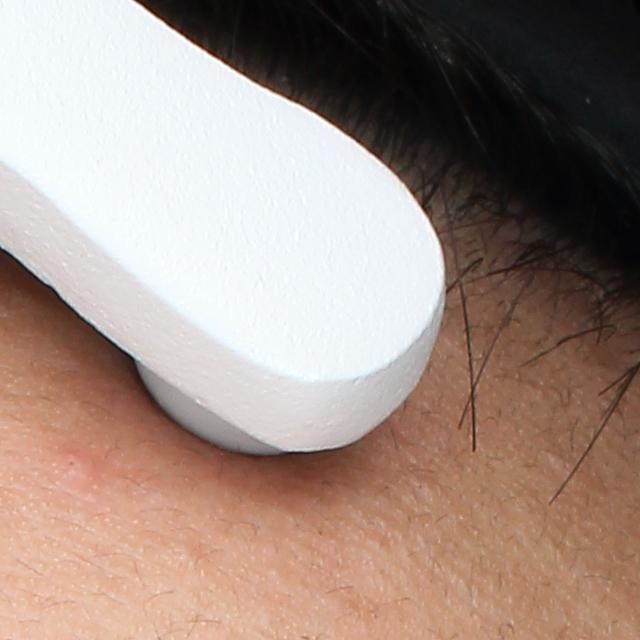comedo: (172, 539, 209, 567)
papule: (58, 448, 98, 484)
